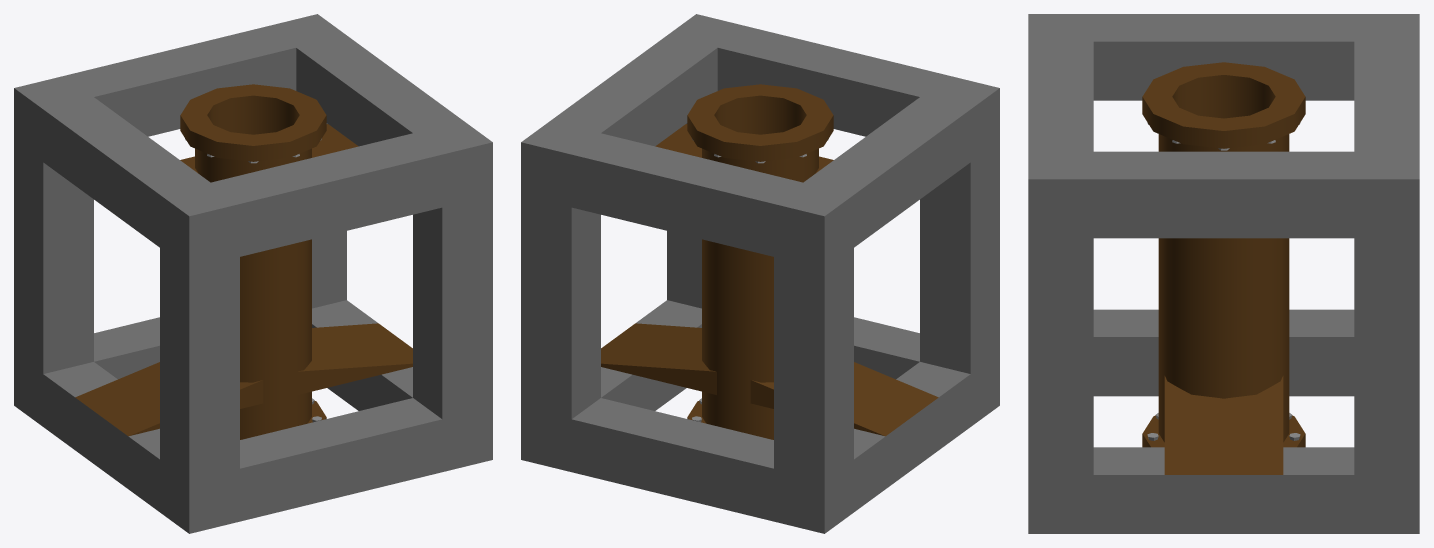
File: well_ground.gltf
3 views of the same model, side by side, from view 1: azimuth 30°, elevation 25°; view 2: azimuth 150°, elevation 25°; view 3: azimuth 270°, elevation 25° (orthographic). The views are drawn at different scales.
Visible parts, largest first — view 1: pie; view 2: pie; view 3: pie.
Boxes of the visible parts, x1,y1,x2,y2 form: pie: (14, 14, 492, 533); pie: (521, 14, 999, 533); pie: (1028, 14, 1419, 533).
Size of the model in its own units: 3 by 3 by 3.
